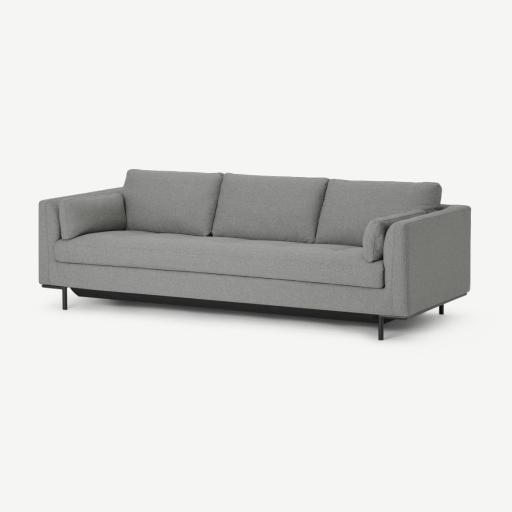back_cushion: (123, 170, 440, 246)
base: (50, 262, 418, 316)
left_arm: (388, 206, 470, 316)
legs: (377, 315, 406, 340), (43, 285, 67, 310), (439, 304, 444, 314)
right_arm: (39, 189, 121, 284)
seat_cushion: (54, 230, 385, 288)
two-seater: (0, 0, 511, 512)
